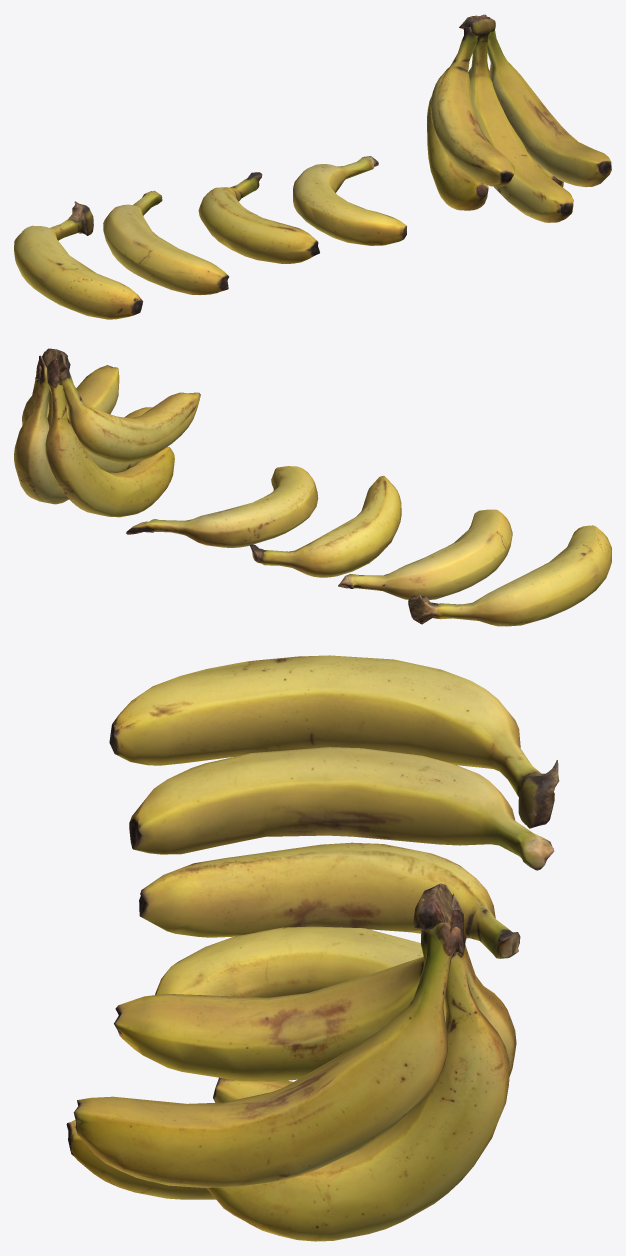
Rendered from prod_banana.glb.
The picture shows the model from 3 angles, top to bottom: view 1: azimuth 30°, elevation 25°; view 2: azimuth 150°, elevation 25°; view 3: azimuth 270°, elevation 25°; orthographic projection. The views are drawn at different scales.
Parts seen in each view (by area): view 1: bananas_bunch, bananas_d, bananas_c, bananas_a, bananas_b; view 2: bananas_bunch, bananas_d, bananas_c, bananas_a, bananas_b; view 3: bananas_bunch, bananas_d, bananas_c, bananas_b, bananas_a.
Part boxes in pixels (x1=…): bananas_bunch: x1=427, y1=14, x2=611, y2=222; bananas_d: x1=14, y1=201, x2=143, y2=319; bananas_c: x1=103, y1=190, x2=229, y2=295; bananas_a: x1=293, y1=156, x2=406, y2=245; bananas_b: x1=198, y1=172, x2=319, y2=263; bananas_bunch: x1=14, y1=348, x2=200, y2=517; bananas_d: x1=408, y1=525, x2=611, y2=626; bananas_c: x1=338, y1=509, x2=512, y2=599; bananas_a: x1=126, y1=466, x2=318, y2=547; bananas_b: x1=249, y1=476, x2=401, y2=577; bananas_bunch: x1=66, y1=883, x2=516, y2=1241; bananas_d: x1=109, y1=655, x2=559, y2=828; bananas_c: x1=129, y1=747, x2=554, y2=870; bananas_b: x1=139, y1=842, x2=520, y2=958; bananas_a: x1=155, y1=926, x2=423, y2=997.
Size of the model in its own units: 0.5996 by 0.1787 by 0.244.
Materials: 1 (1 with a texture image).
